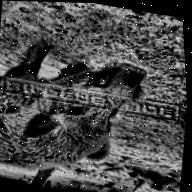boar: (0, 25, 158, 192)
